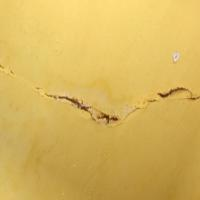crack: (19, 49, 197, 140)
